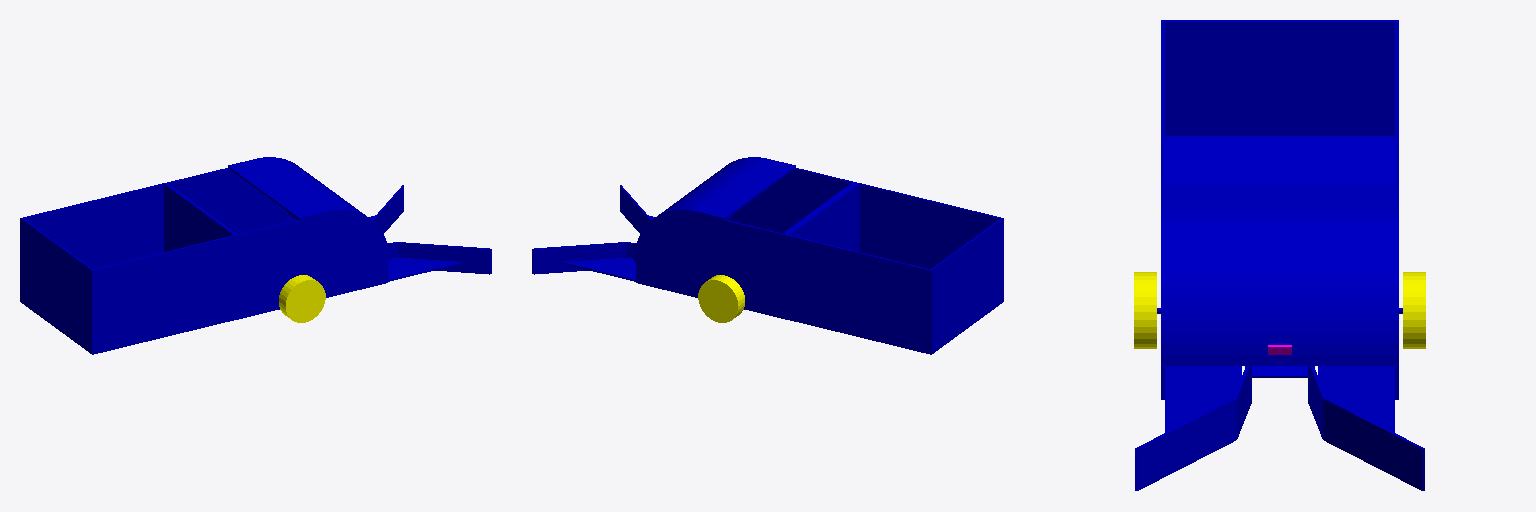
robot.urdf — TRR:
<!-- ======================================== Author: [author] ========================================  -->

<!-- ================================== Tennis ball Retrieval Robot =================================== -->
<robot name="TRR">

<!-- ============================================= Colors ============================================= -->
  <!-- Orange-->
  <material name="orange">
    <color rgba="1.0 0.5 0.0 1.0"/>
  </material>

  <!-- Blue--> 
  <material name="blue">
    <color rgba="0 0 0.8 1"/>
  </material>

  <!-- Yellow-->
  <material name="yellow">
    <color rgba="1 1 0 1"/>
  </material>

  <!-- Purple-->
  <material name="purple">
    <color rgba="1 0 1 1"/>
  </material>


<!-- ============================================= Components ============================================ -->
  <!-- Base-->
  <link name="base_link">
  </link>

  <!-- Frame-->
  <link name="frame_link">
    <visual>
      <material name="blue"/>
      <geometry>
        <mesh filename="package://my_robot/meshes/base2.stl" scale="0.001 0.001 0.001"/>
      </geometry>
      <origin xyz="0 0 0" rpy="0 0.0 0"/>
    </visual>

    <collision>
      <geometry>
        <mesh filename="package://my_robot/meshes/base2.stl" scale="0.001 0.001 0.001"/>
      </geometry>
      <origin xyz="0 0 0" rpy="0 0.0 0"/>
    </collision>

    <inertial>
      <mass value="20"/>
      <inertia ixx="2" ixy="0.0" ixz="0.0" iyy="2" iyz="0.0" izz="2"/>
      <origin xyz="0.125 0 0" rpy="0.0 0.0 0"/>
    </inertial>
  </link>
  
  <!-- Base => Frame -->
  <joint name="frame_joint" type="fixed">
    <parent link="base_link"/>
    <child link="frame_link"/>
    <origin xyz="-0.15 0 0" rpy="0 0.0 0.0"/>
  </joint>

  <!-- Left active wheel-->
  <link name="left_active_wheel_link">
    <visual>
      <material name="yellow"/>
      <geometry>
        <cylinder radius="0.05" length="0.03"/>
      </geometry>
    </visual>

    <collision>
      <geometry>
        <cylinder radius="0.05" length="0.03"/>
      </geometry>
    </collision>

    <inertial>
        <mass value="0.18"/>
        <inertia ixx="0.1" ixy="0.0" ixz="0.0" iyy="0.1" iyz="0.0" izz="0.1"/>    
    </inertial>
  </link>

  <!-- Base => Left active wheel -->
  <joint name="left_active_wheel_joint" type="continuous">
    <parent link="base_link"/> 
    <child link="left_active_wheel_link"/>
    <origin xyz="0 -0.175 0.0225" rpy="1.57075 0.0 0.0"/>
    <axis xyz="0 0 1"/>
  </joint>

  <!-- Right active wheel-->
  <link name="right_active_wheel_link">
    <visual>
      <material name="yellow"/>
      <geometry>
        <cylinder radius="0.05" length="0.03"/>
      </geometry>
    </visual>

    <collision>
      <geometry>
        <cylinder radius="0.05" length="0.03"/>
      </geometry>
    </collision>

    <inertial>
        <mass value="0.18"/>
        <inertia ixx="0.1" ixy="0.0" ixz="0.0" iyy="0.1" iyz="0.0" izz="0.1"/>
    </inertial>
  </link>

  <!-- Base => Right active wheel -->
  <joint name="right_active_wheel_joint" type="continuous">
    <parent link="base_link"/> 
    <child link="right_active_wheel_link"/>
    <origin xyz="0 0.175 0.0225" rpy="1.57075 0.0 0.0"/>
    <axis xyz="0 0 1"/>
  </joint>

 <!-- Left caster wheel -->
  <link name="left_caster_wheel_link">
    <visual>
      <geometry>
        <sphere radius="0.0125"/>
      </geometry>
      <material name="yellow"/>
    </visual>

    <inertial>
        <mass value="0.13"/>
        <inertia ixx="0.1" ixy="0" ixz="0" iyy="0.1" iyz="0" izz="0.1"/>
    </inertial>
    
    <collision>
      <geometry>
        <sphere radius="0.0125"/>
      </geometry>
    </collision>
  </link>

  <!-- Base => Left caster wheel -->
  <joint name="left_caster_wheel_joint" type="continuous">
    <parent link="base_link"/>
    <child link="left_caster_wheel_link"/>
    <origin xyz="-0.383376 -0.0825 -0.015" rpy="0 0.0 0.0"/>
    <axis xyz="1.0 0.0 1.0"/>
  </joint>

 <!-- Right caster wheel -->
  <link name="right_caster_wheel_link">
    <visual>
      <geometry>
        <sphere radius="0.0125"/>
      </geometry>
      <material name="yellow"/>
    </visual>

    <inertial>
        <mass value="0.13"/>
        <inertia ixx="0.1" ixy="0" ixz="0" iyy="0.1" iyz="0" izz="0.1"/>
    </inertial>

    <collision>
      <geometry>
        <sphere radius="0.0125"/>
      </geometry>
    </collision>
  </link>

  <!-- Base => Right caster wheel -->
  <joint name="right_caster_wheel_joint" type="continuous">
    <parent link="base_link"/>
    <child link="right_caster_wheel_link"/>
    <origin xyz="-0.383376 0.0825 -0.015" rpy="0 0.0 0.0"/>
    <axis xyz="1.0 0.0 1.0"/>
  </joint>

  <!-- Left shooting wheel-->
  <link name="left_shooting_wheel_link">
    <visual>
      <material name="orange"/>
      <geometry>
        <cylinder radius="0.0325" length="0.027"/>
      </geometry>
    </visual>

    <collision>
      <geometry>
        <cylinder radius="0.0325" length="0.027"/>
      </geometry>
    </collision>

    <inertial>
        <mass value="0.1"/>
        <inertia ixx="0.1" ixy="0.0" ixz="0.0" iyy="0.1" iyz="0.0" izz="0.1"/>
    </inertial>
  </link>

  <!-- Base => Left shooting wheel-->
  <joint name="left_shooting_wheel_joint" type="continuous">
    <parent link="base_link"/> 
    <child link="left_shooting_wheel_link"/>
    <origin xyz="0.165 -0.015 0.068" rpy="1.57075 0 0"/>
        <axis xyz="0 0 1"/>
  </joint>

  <!-- Right shooting wheel-->
  <link name="right_shooting_wheel_link">
    <visual>
      <material name="orange"/>
      <geometry>
        <cylinder radius="0.0325" length="0.027"/>
      </geometry>
    </visual>

    <collision>
      <geometry>
        <cylinder radius="0.0325" length="0.027"/>
      </geometry>
    </collision>

    <inertial>
        <mass value="0.1"/>
        <inertia ixx="0.1" ixy="0.0" ixz="0.0" iyy="0.1" iyz="0.0" izz="0.1"/>
    </inertial>
  </link>

  <!-- Base => Right shooting wheel-->
  <joint name="right_shooting_wheel_joint" type="continuous">
    <parent link="base_link"/> 
    <child link="right_shooting_wheel_link"/>
    <origin xyz="0.165 0.015 0.068" rpy="1.57075 0 0"/>
        <axis xyz="0 0 1"/>
  </joint>

  <!-- Camera Link -->
  <link name="camera_link">
    <visual>
      <origin rpy="0 0 0" xyz="0 0 0"/>
      <material name="purple"/>
      <geometry>
        <box size="0.003 0.03 0.03"/>
      </geometry>
    </visual>

    <collision>
      <geometry>
        <box size="0.03 0.03 0.003"/>
      </geometry>
    </collision>

    <inertial>
      <mass value="0.0024" />
      <inertia ixx="1e-6" ixy="0" ixz="0" iyy="1e-6" iyz="0" izz="1e-6" />
    </inertial>

  </link>

  <!-- Base => Camera Joint (Fixed) -->
  <joint name="camera_joint" type="fixed">
      <parent link="base_link"/>
      <child link="camera_link"/>
      <origin xyz="0.23 0.0 0.07" rpy="0.0 -0.52358 3.1415"/>
  </joint>  

<!-- ============================================= Transmission ============================================ -->
  <!-- Right Front Wheel Transmission -->
  <transmission name="tran1">
      <type>transmission_interface/SimpleTransmission</type>
      <joint name="left_active_wheel_joint">
          <hardwareInterface>hardware_interface/EffortJointInterface</hardwareInterface>
      </joint>
      <actuator name="motor1">
          <hardwareInterface>hardware_interface/EffortJointInterface</hardwareInterface>
          <mechanicalReduction>1</mechanicalReduction>
      </actuator>
  </transmission>

  <!-- Left Front Wheel Transmission -->
  <transmission name="tran2">
      <type>transmission_interface/SimpleTransmission</type>
      <joint name="right_active_wheel_joint">
          <hardwareInterface>hardware_interface/EffortJointInterface</hardwareInterface>
      </joint>
      <actuator name="motor2">
          <hardwareInterface>hardware_interface/EffortJointInterface</hardwareInterface>
          <mechanicalReduction>1</mechanicalReduction>
      </actuator>
  </transmission>

  <!-- Right Shoot Wheel Transmission -->
  <transmission name="tran3">
      <type>transmission_interface/SimpleTransmission</type>
      <joint name="left_shooting_wheel_joint">
          <hardwareInterface>hardware_interface/EffortJointInterface</hardwareInterface>
      </joint>
      <actuator name="motor3">
          <hardwareInterface>hardware_interface/EffortJointInterface</hardwareInterface>
          <mechanicalReduction>1</mechanicalReduction>
      </actuator>
  </transmission>

  <!-- Left Shoot Wheel Transmission -->
  <transmission name="tran4">
      <type>transmission_interface/SimpleTransmission</type>
      <joint name="right_shooting_wheel_joint">
          <hardwareInterface>hardware_interface/EffortJointInterface</hardwareInterface>
      </joint>
      <actuator name="motor4">
          <hardwareInterface>hardware_interface/EffortJointInterface</hardwareInterface>
          <mechanicalReduction>1</mechanicalReduction>
      </actuator>
  </transmission>

<!-- ================================================== Gazebo ====================================================== -->
  <!-- Gazebo Visual Properties -->
  <gazebo reference="frame_link">
      <material>Gazebo/Blue</material>
  </gazebo>
  <gazebo reference="left_active_wheel_link">
      <material>Gazebo/Yellow</material>
  </gazebo>
  <gazebo reference="right_active_wheel_link">
      <material>Gazebo/Yellow</material>
  </gazebo>
  <gazebo reference="left_caster_wheel_link">
      <material>Gazebo/Yellow</material>
  </gazebo>
  <gazebo reference="right_caster_wheel_link">
      <material>Gazebo/Yellow</material>
  </gazebo>
  <gazebo reference="left_shooting_wheel_link">
      <material>Gazebo/Orange</material>
  </gazebo>
  <gazebo reference="right_shooting_wheel_link">
      <material>Gazebo/Orange</material>
  </gazebo>

  <!-- Camera Sensor -->
  <gazebo reference="camera_link">
    <material>Gazebo/Purple</material>
    <sensor type="camera" name="camera1">
      <update_rate>30.0</update_rate>
      <camera name="head">
        <horizontal_fov>1.3962634</horizontal_fov>
        <image>
          <width>640</width>
          <height>480</height>
          <format>R8G8B8</format>
        </image>
        <clip>
          <near>0.02</near>
          <far>300</far>
        </clip>
        <noise>
          <type>gaussian</type>
          <mean>0.0</mean>
          <stddev>0.007</stddev>
        </noise>
      </camera>
      <plugin name="camera_controller" filename="libgazebo_ros_camera.so">
        <alwaysOn>true</alwaysOn>
        <updateRate>0.0</updateRate>
        <cameraName>my_robot/camera1</cameraName>
        <imageTopicName>image_raw</imageTopicName>
        <cameraInfoTopicName>camera_info</cameraInfoTopicName>
        <frameName>camera_link</frameName>
        <hackBaseline>0.07</hackBaseline>
        <distortionK1>0.0</distortionK1>
        <distortionK2>0.0</distortionK2>
        <distortionK3>0.0</distortionK3>
        <distortionT1>0.0</distortionT1>
        <distortionT2>0.0</distortionT2>
      </plugin>
    </sensor>
  </gazebo>

  <!-- Gazebo ROS Control Plugin -->
  <gazebo>
      <plugin name="gazebo_ros_control" filename="libgazebo_ros_control.so">
          <robotNamespace>/my_TRR</robotNamespace>
      </plugin>
  </gazebo>

</robot>

--- Render facts (derived) ---
3 views of the same robot in one strip: view 1: azimuth 30°, elevation 25°; view 2: azimuth 150°, elevation 25°; view 3: azimuth 270°, elevation 25° (orthographic).
Robot: TRR — 9 links, 8 joints (6 continuous, 2 fixed); root link base_link; default pose: every joint at zero.
Links seen in each view (by area): view 1: frame_link, left_active_wheel_link; view 2: frame_link, right_active_wheel_link; view 3: frame_link, left_active_wheel_link, right_active_wheel_link.
Boxes of the visible links, x1,y1,x2,y2 form: frame_link: [20, 157, 491, 354]; left_active_wheel_link: [279, 275, 325, 322]; frame_link: [532, 157, 1003, 354]; right_active_wheel_link: [698, 275, 744, 322]; frame_link: [1135, 20, 1424, 490]; left_active_wheel_link: [1134, 272, 1156, 348]; right_active_wheel_link: [1403, 272, 1425, 348].
Size in the robot's own frame: 0.9728 by 0.38 by 0.2325 metres.
Meshes: 1 distinct files referenced, 1 mesh visuals loaded (1 binary STL).